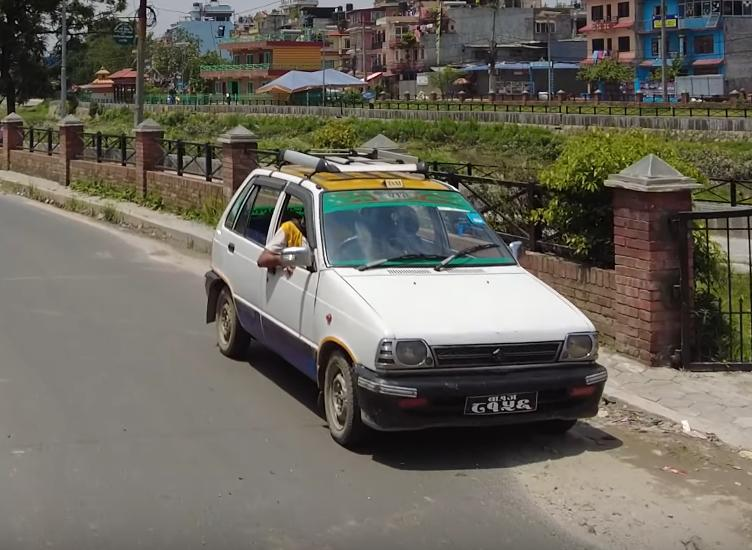taxi: (199, 136, 621, 463)
